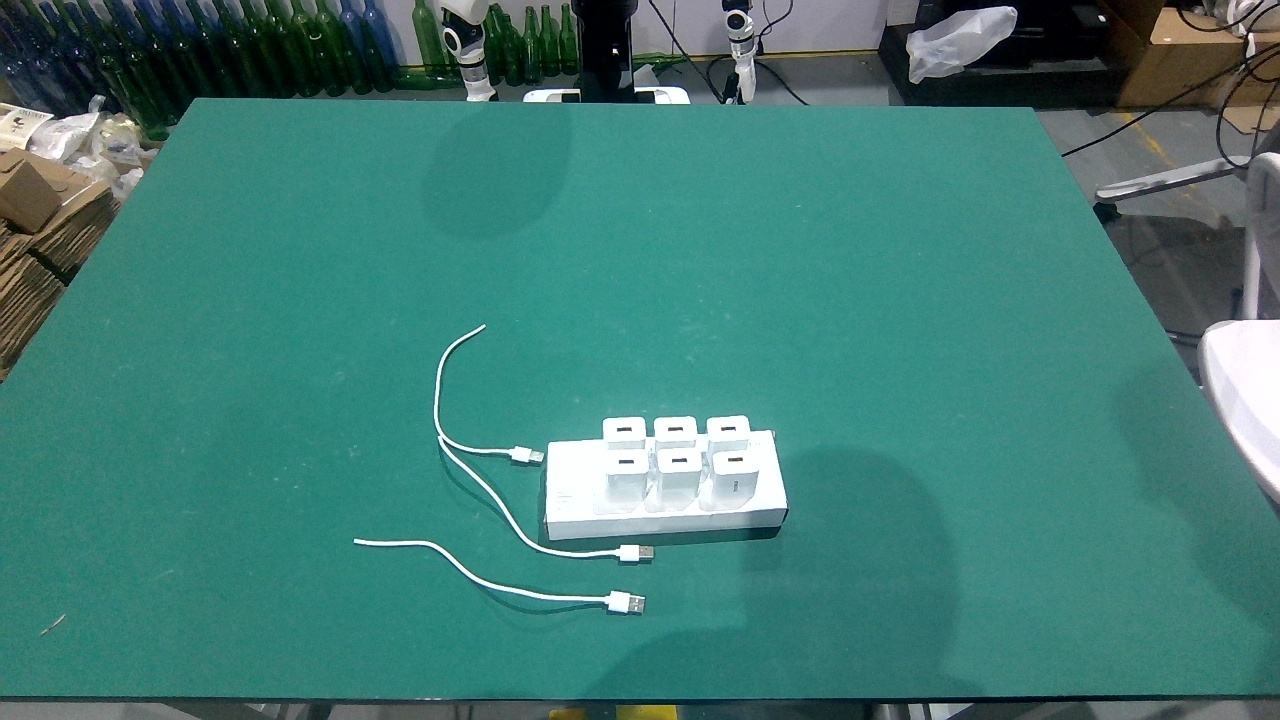usb_a_plug: (591, 588, 648, 616), (498, 443, 545, 465), (602, 544, 655, 562)
